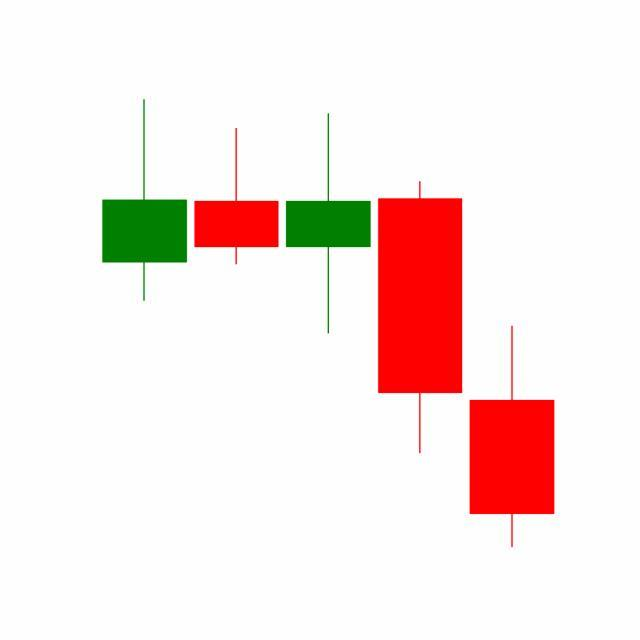Three Outside Up-Down: (280, 109, 555, 548)
